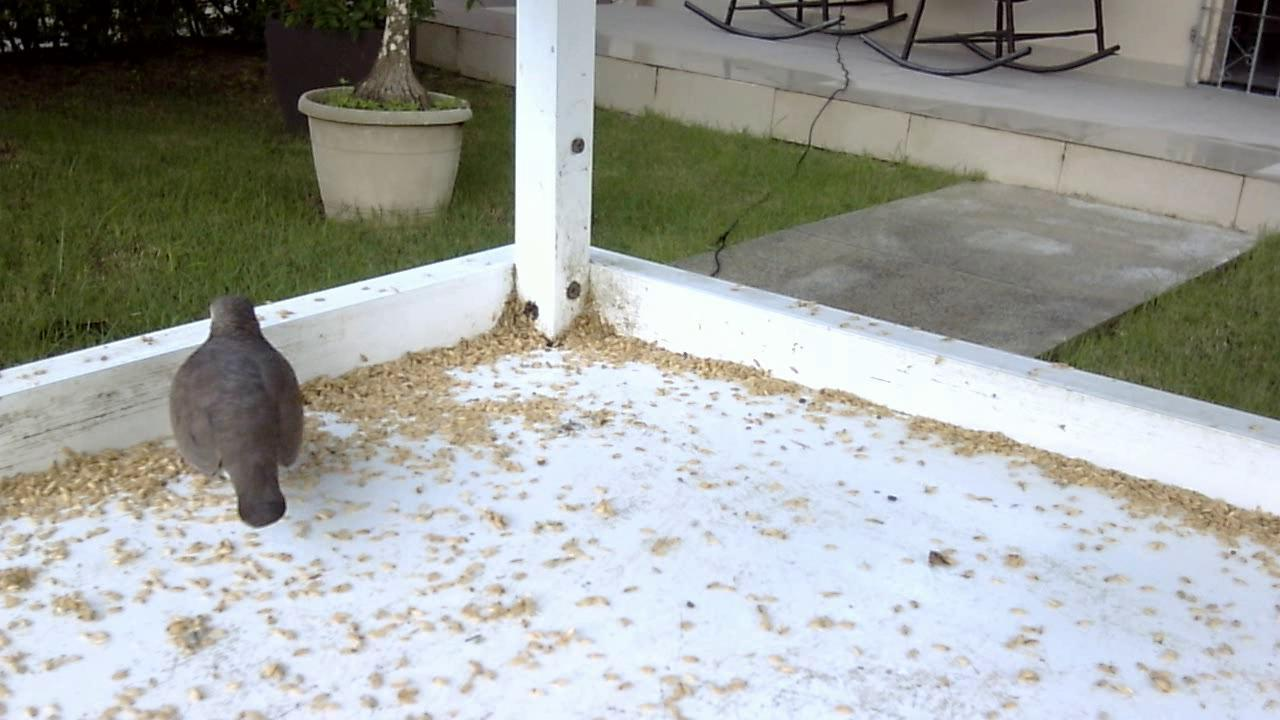rolinha: (160, 294, 308, 532)
